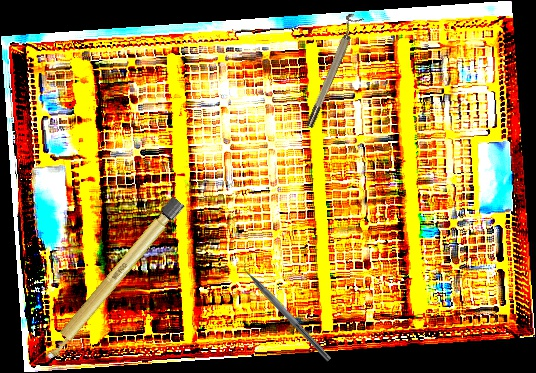Chopper: (234, 255, 338, 362)
Fixation Ring: (299, 11, 364, 130)
Scalpel Handle: (40, 195, 185, 364)
